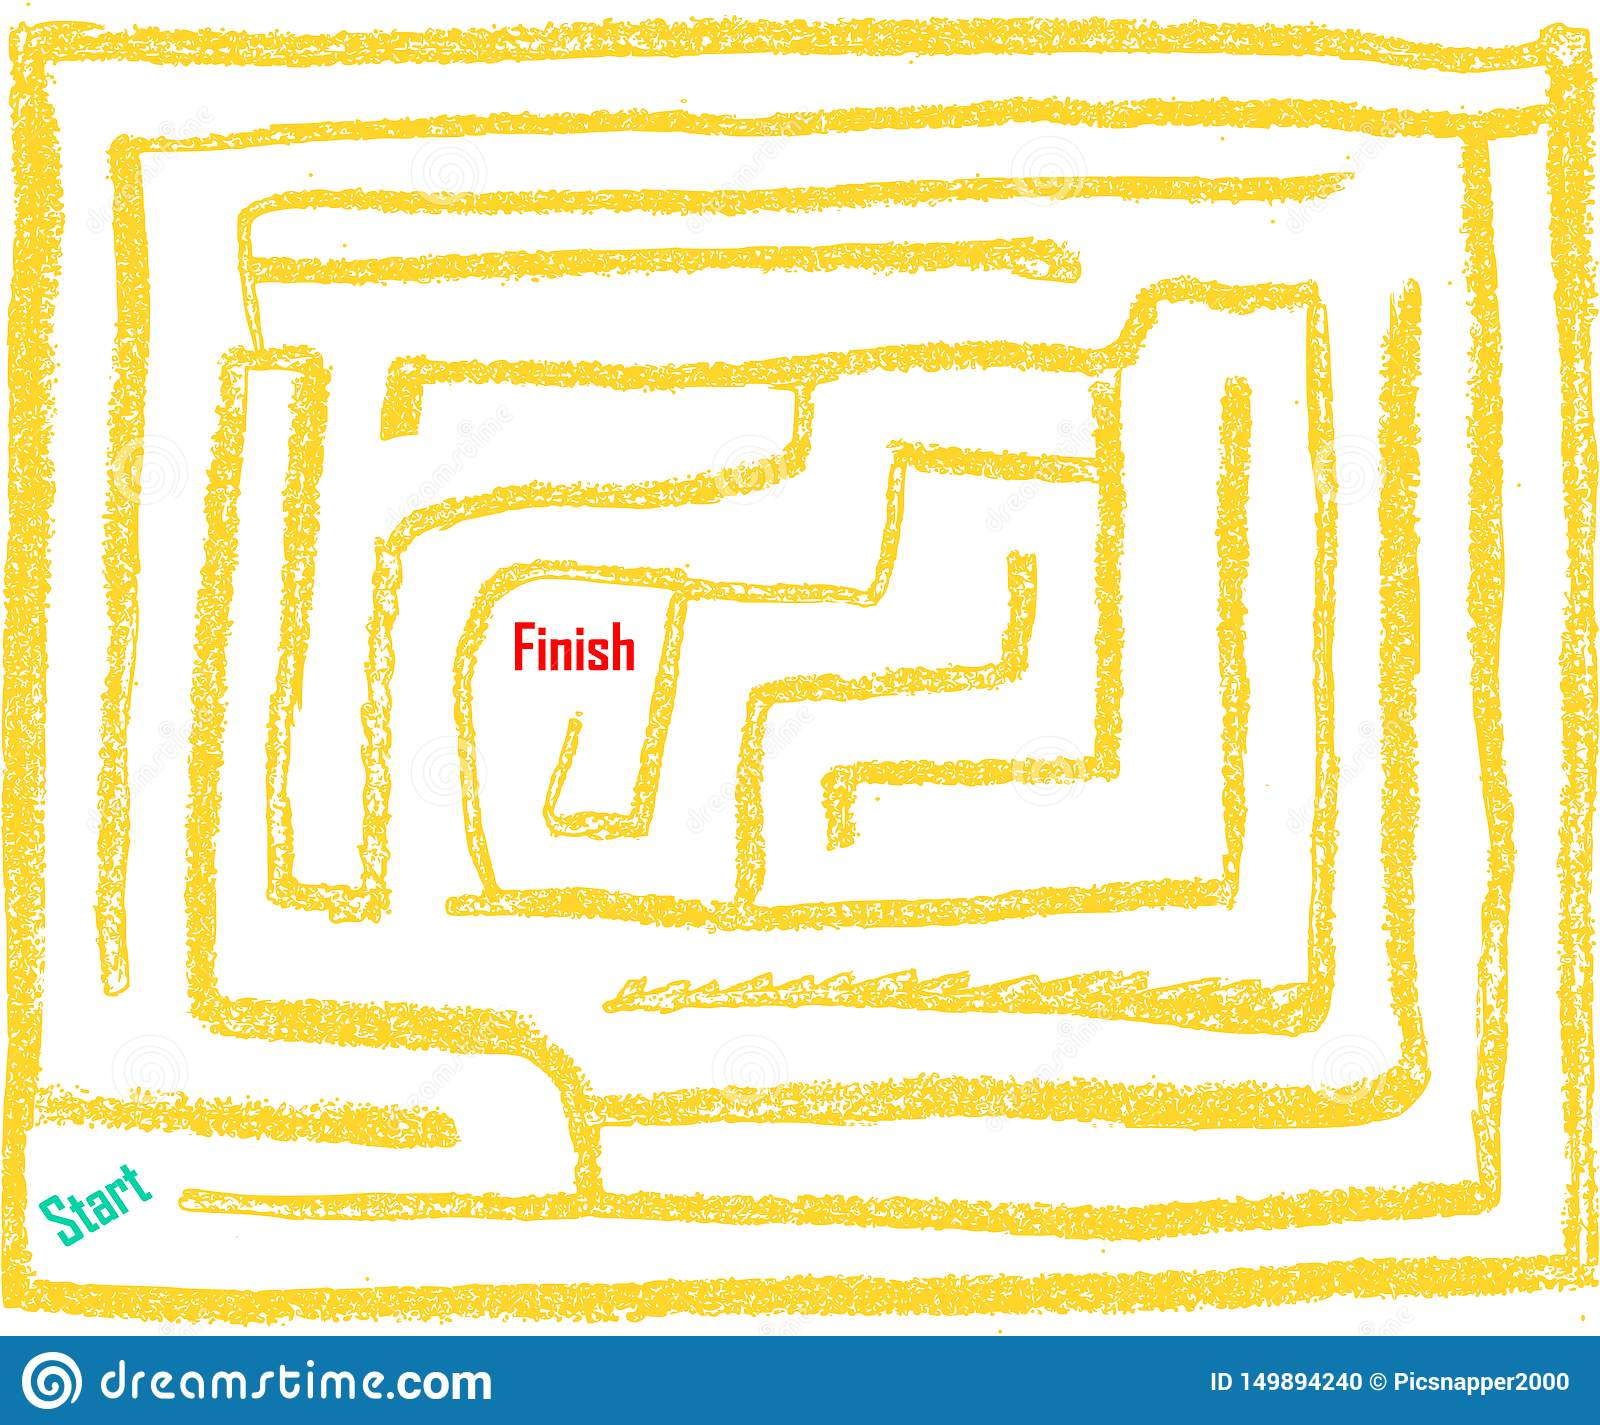maze: (7, 21, 1600, 1315)
